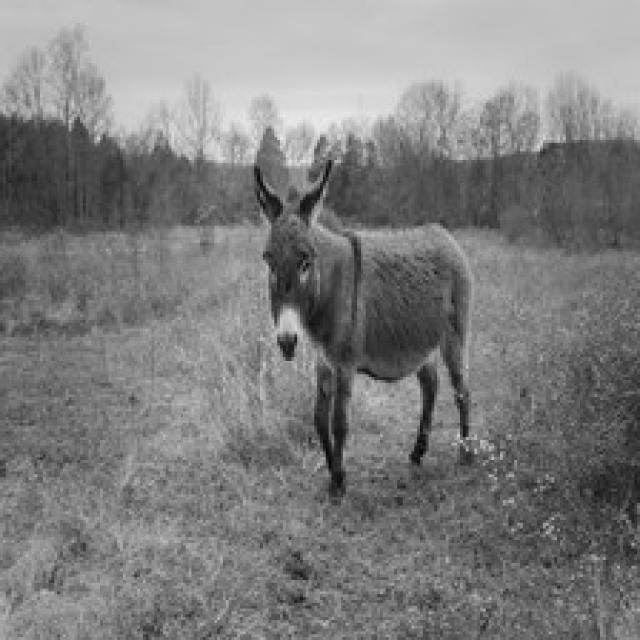Donkey: (252, 157, 474, 503)
